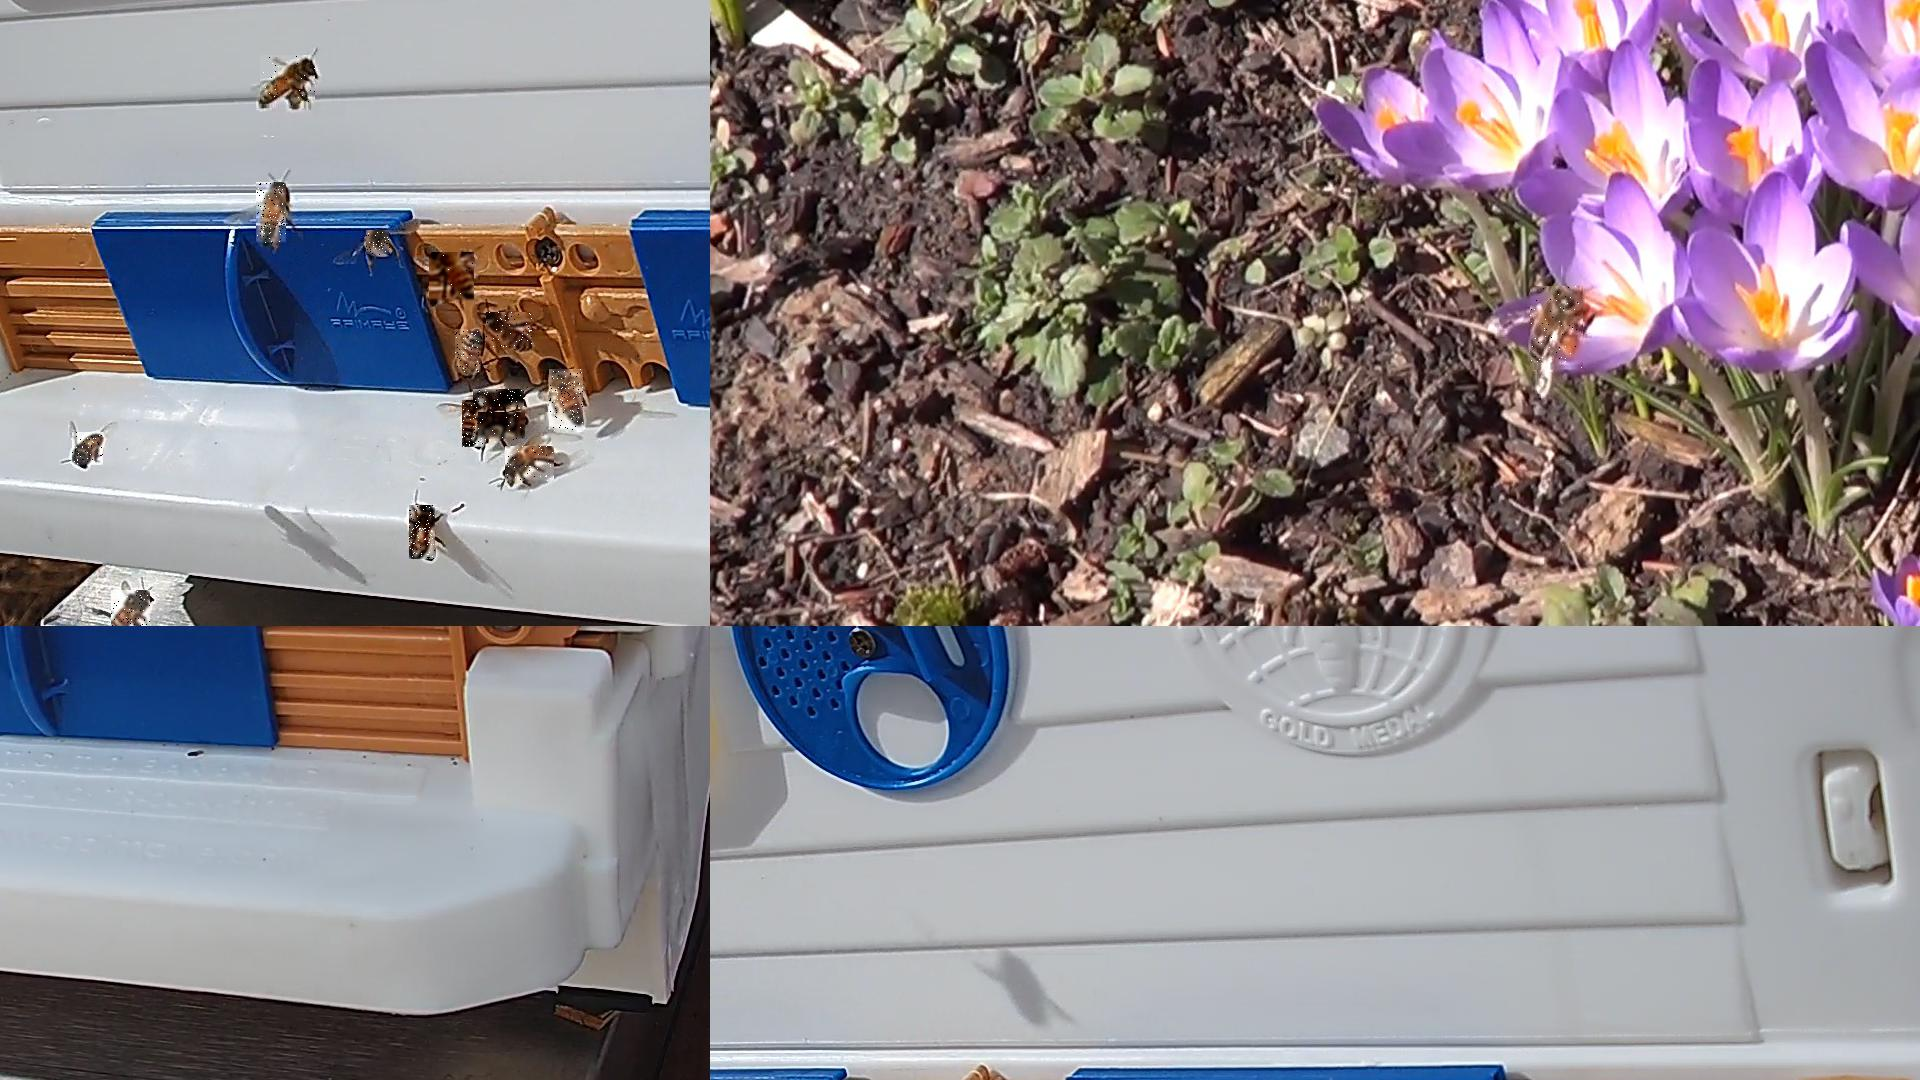bee: (429, 253, 475, 303), (550, 369, 584, 433), (256, 183, 287, 245), (505, 447, 555, 484), (487, 313, 533, 349), (409, 505, 436, 560), (111, 589, 152, 625), (479, 413, 526, 442), (455, 330, 483, 375), (463, 400, 485, 448), (73, 433, 104, 465), (473, 390, 525, 410), (367, 231, 392, 257)
pollenbee: (1531, 286, 1584, 369), (260, 55, 316, 109)
